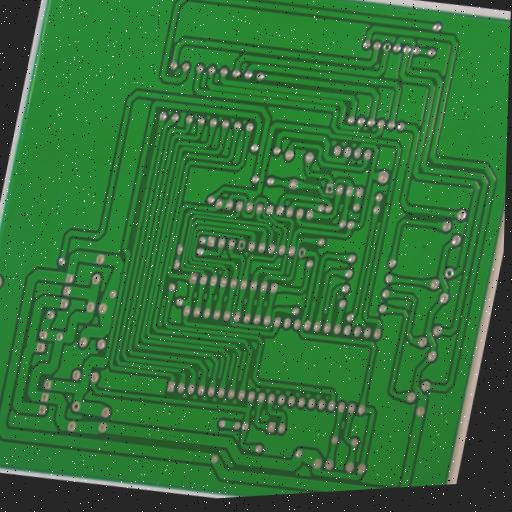missing_hole: (441, 264, 457, 280), (294, 244, 309, 261), (322, 180, 337, 197), (380, 39, 393, 54), (236, 237, 248, 252)
